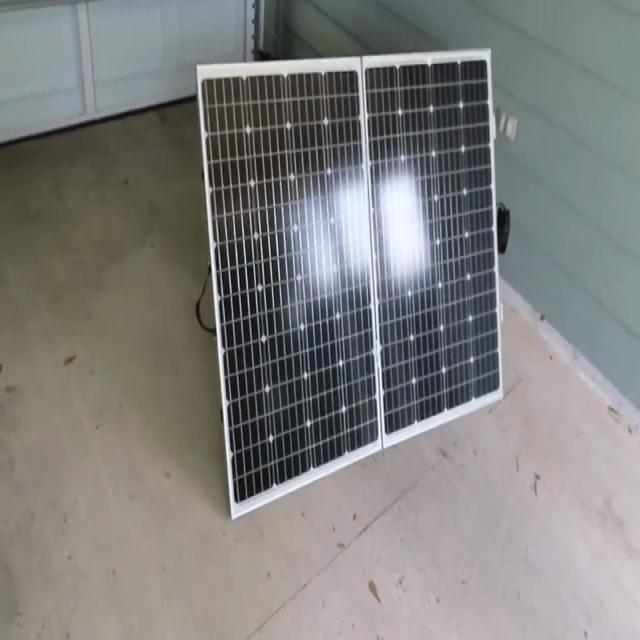Normal Solar Panel: (199, 49, 503, 519), (201, 69, 379, 504)
